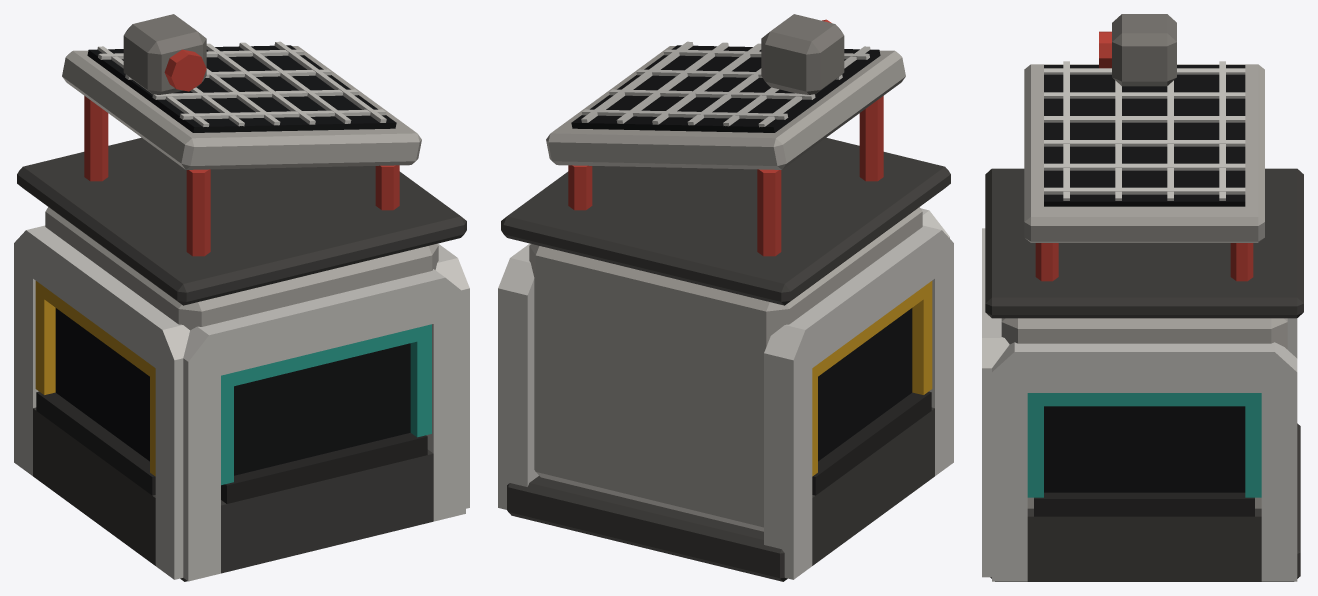
Rendered from sieve.fbx.
The picture shows the model from 3 angles, left to right: view 1: azimuth 30°, elevation 25°; view 2: azimuth 150°, elevation 25°; view 3: azimuth 270°, elevation 25°; orthographic projection. The views are drawn at different scales.
Parts seen in each view (by area): view 1: sieve; view 2: sieve; view 3: sieve.
Part boxes in pixels (x1=…): sieve: x1=14, y1=14, x2=469, y2=581; sieve: x1=498, y1=14, x2=953, y2=581; sieve: x1=982, y1=14, x2=1303, y2=581.
Bounding box in the file's own units: 3 × 4.68 × 2.97.
